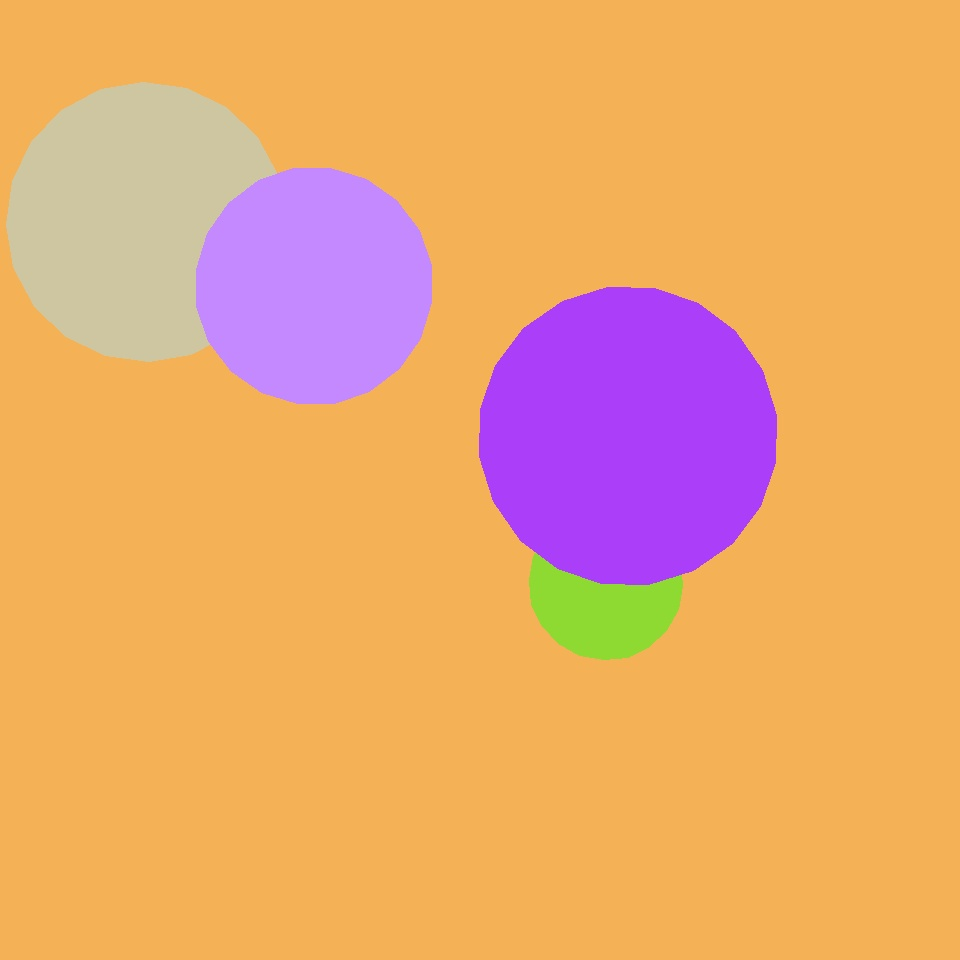circle: (147, 661, 360, 898)
square: (120, 228, 375, 483)
triangle: (278, 148, 620, 490), (480, 287, 776, 584), (6, 82, 286, 362), (489, 110, 725, 347), (197, 168, 432, 404), (530, 506, 682, 660), (598, 460, 750, 612), (63, 561, 163, 660)
